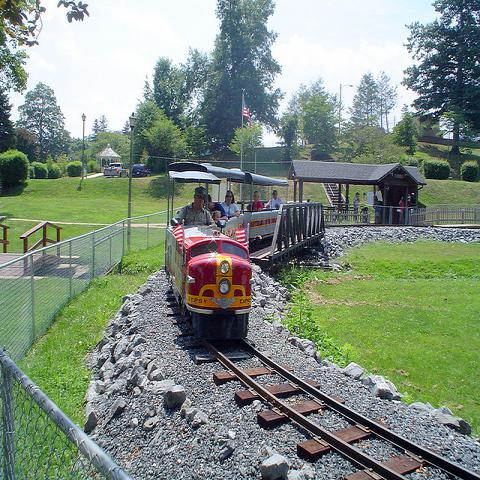car: (132, 164, 151, 178)
truck: (104, 163, 128, 178), (132, 163, 151, 179)
